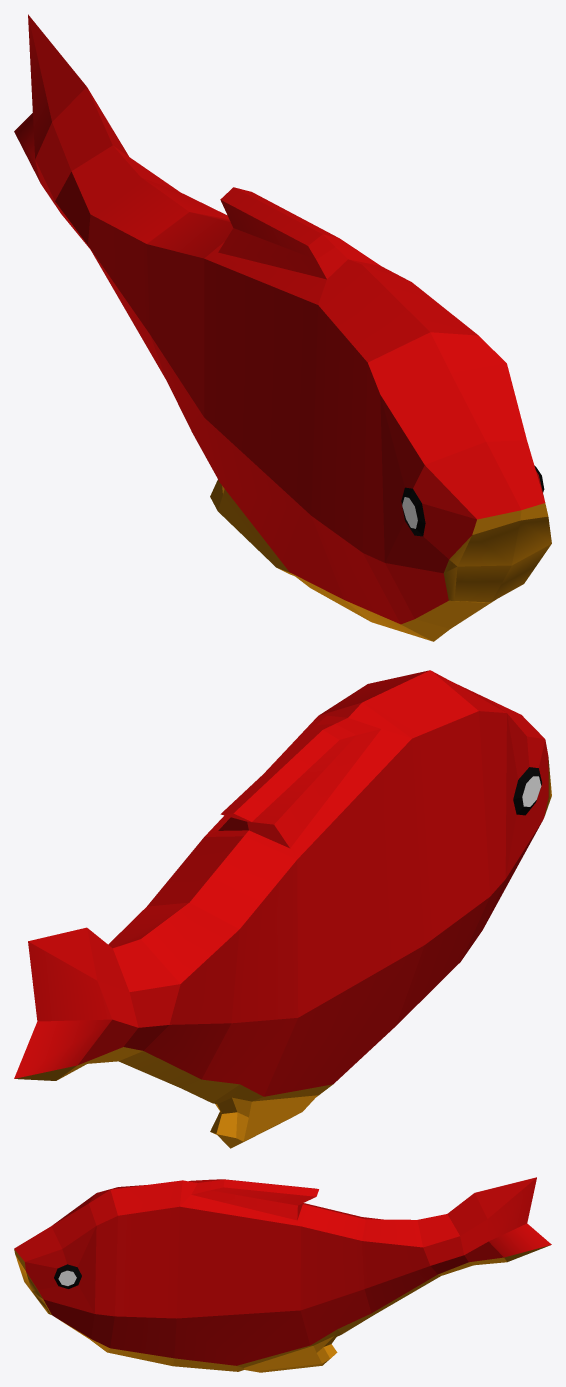
The model's file is Fish-2.fbx.
The picture shows the model from 3 angles, top to bottom: view 1: azimuth 30°, elevation 25°; view 2: azimuth 150°, elevation 25°; view 3: azimuth 270°, elevation 25°; orthographic projection. The views are drawn at different scales.
Parts seen in each view (by area): view 1: Fish-2; view 2: Fish-2; view 3: Fish-2.
Part boxes in pixels (x1,y1,x2,y2): Fish-2: [14, 14, 551, 641]; Fish-2: [14, 670, 551, 1148]; Fish-2: [14, 1177, 551, 1372].
Bounding box in the file's own units: 0.0938 × 0.257 × 0.6408.
